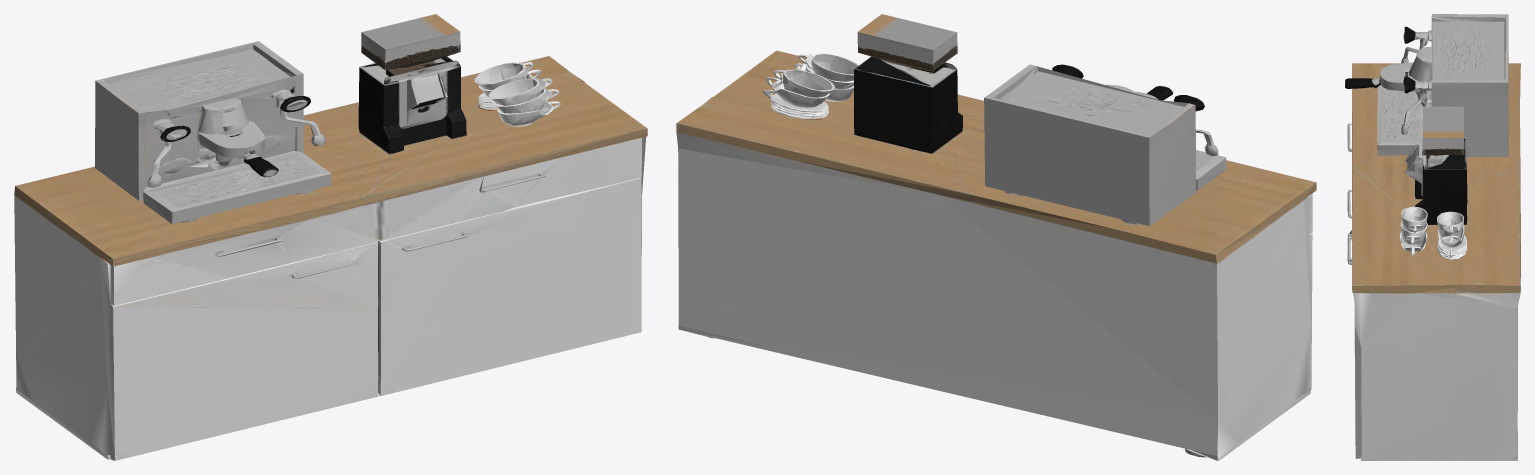
The model's file is coffee_bar.glb.
3 views of the same model, side by side, from view 1: azimuth 30°, elevation 25°; view 2: azimuth 150°, elevation 25°; view 3: azimuth 270°, elevation 25° (orthographic). The views are drawn at different scales.
Parts seen in each view (by area): view 1: 0; view 2: 0; view 3: 0.
Part boxes in pixels (x1=…): 0: x1=14, y1=14, x2=647, y2=460; 0: x1=676, y1=14, x2=1316, y2=460; 0: x1=1345, y1=14, x2=1520, y2=460.
Bounding box in the file's own units: 1.8 × 1 × 0.6.
1 material, 1 textured.
